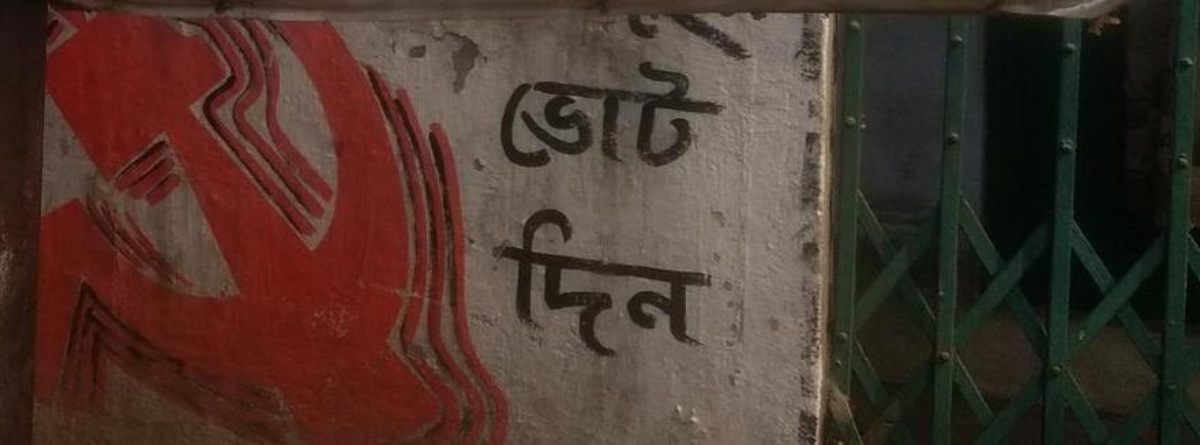text: (705, 193, 721, 365), (497, 193, 512, 365), (513, 193, 528, 365), (529, 193, 544, 365), (545, 193, 560, 365), (561, 193, 576, 365), (577, 193, 592, 365), (593, 193, 608, 365), (609, 193, 624, 365), (625, 193, 640, 365), (641, 193, 656, 365), (657, 193, 672, 365), (673, 193, 688, 365), (689, 193, 704, 365), (497, 52, 512, 175), (513, 52, 528, 175), (529, 52, 544, 175), (545, 52, 560, 175), (561, 52, 576, 175), (577, 52, 592, 175), (593, 52, 608, 175), (609, 52, 624, 175), (625, 52, 640, 175), (641, 52, 656, 175), (657, 52, 672, 175), (673, 52, 688, 175), (689, 52, 704, 175), (705, 52, 720, 175), (487, 193, 496, 365), (721, 52, 730, 175), (641, 9, 656, 63), (657, 9, 672, 63), (673, 9, 688, 63), (689, 9, 704, 63), (705, 9, 720, 63), (721, 9, 736, 63), (737, 9, 752, 63), (753, 9, 768, 63), (626, 9, 640, 63), (769, 9, 772, 63)
